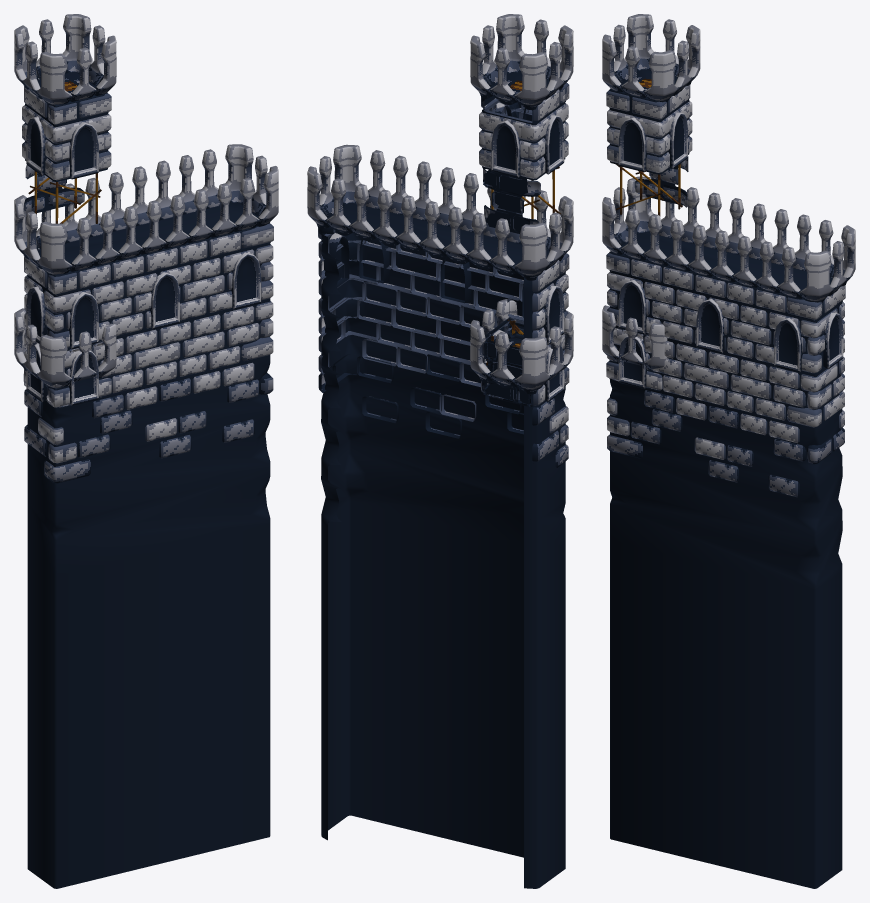
Rendered from tower_wide.fbx.
3 views of the same model, side by side, from view 1: azimuth 30°, elevation 25°; view 2: azimuth 150°, elevation 25°; view 3: azimuth 330°, elevation 25° (orthographic). The views are drawn at different scales.
Parts seen in each view (by area): view 1: tower_wall.007, tower_open.003, tower_wide, tower_wall.008, tower_wall.009, tower_wall.011, tower_wall.010, tower_open.001, tower_window_3.002, tower_open, tower_window.001, tower_wall.012 (+6 smaller); view 2: tower_wall.007, tower_wide, tower_open.003, tower_wall.008, tower_wall.009, tower_wall.011, tower_open.001, tower_wall.010, tower_open, tower_window.001, tower_window_2.001, tower_construction_middle.001 (+5 smaller); view 3: tower_wall.007, tower_open.003, tower_wide, tower_wall.009, tower_wall.008, tower_wall.011, tower_wall.010, tower_open.001, tower_window_3.002, tower_window.001, tower_wall.012, tower_open (+6 smaller).
Boxes of the visible parts, x1=… form: tower_wall.007: x1=27, y1=469, x2=270, y2=888; tower_open.003: x1=14, y1=144, x2=278, y2=295; tower_wide: x1=14, y1=145, x2=278, y2=564; tower_wall.008: x1=27, y1=412, x2=270, y2=521; tower_wall.009: x1=24, y1=356, x2=273, y2=464; tower_wall.011: x1=24, y1=299, x2=273, y2=408; tower_wall.010: x1=24, y1=243, x2=273, y2=348; tower_open.001: x1=14, y1=14, x2=116, y2=125; tower_window_3.002: x1=26, y1=252, x2=261, y2=349; tower_open: x1=14, y1=308, x2=116, y2=408; tower_window.001: x1=22, y1=103, x2=110, y2=181; tower_wall.012: x1=78, y1=232, x2=241, y2=288; tower_wall.007: x1=321, y1=446, x2=565, y2=888; tower_wide: x1=307, y1=146, x2=573, y2=575; tower_open.003: x1=307, y1=144, x2=573, y2=292; tower_wall.008: x1=321, y1=390, x2=568, y2=519; tower_wall.009: x1=318, y1=335, x2=568, y2=463; tower_wall.011: x1=318, y1=278, x2=564, y2=405; tower_open.001: x1=470, y1=14, x2=573, y2=123; tower_wall.010: x1=318, y1=231, x2=568, y2=338; tower_open: x1=470, y1=299, x2=573, y2=407; tower_window.001: x1=479, y1=101, x2=568, y2=180; tower_window_2.001: x1=479, y1=100, x2=565, y2=180; tower_construction_middle.001: x1=483, y1=168, x2=540, y2=233; tower_wall.007: x1=610, y1=487, x2=842, y2=888; tower_open.003: x1=602, y1=176, x2=855, y2=320; tower_wide: x1=602, y1=178, x2=855, y2=592; tower_wall.009: x1=607, y1=379, x2=844, y2=483; tower_wall.008: x1=607, y1=433, x2=842, y2=537; tower_wall.011: x1=607, y1=328, x2=844, y2=429; tower_wall.010: x1=607, y1=271, x2=844, y2=374; tower_open.001: x1=602, y1=14, x2=700, y2=120; tower_window_3.002: x1=618, y1=280, x2=843, y2=372; tower_window.001: x1=607, y1=99, x2=692, y2=173; tower_wall.012: x1=631, y1=259, x2=786, y2=312; tower_open: x1=602, y1=305, x2=667, y2=391.
Bounding box in the file's own units: 272 × 873 × 2951.
